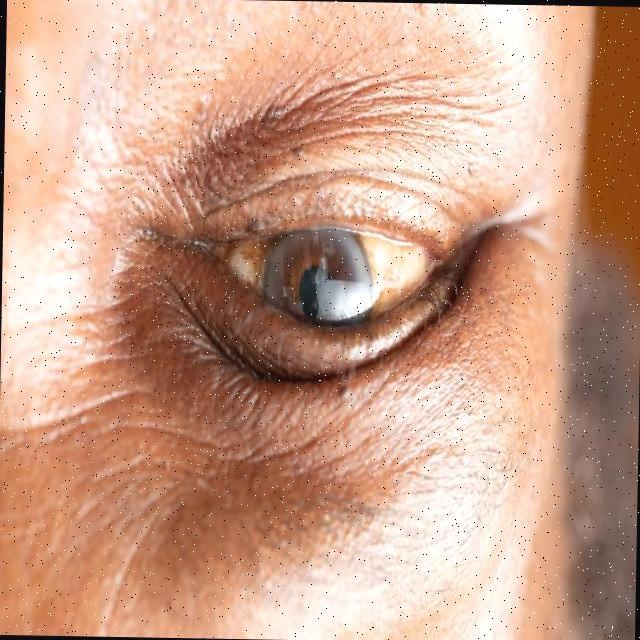Cataract: (250, 214, 378, 355)
